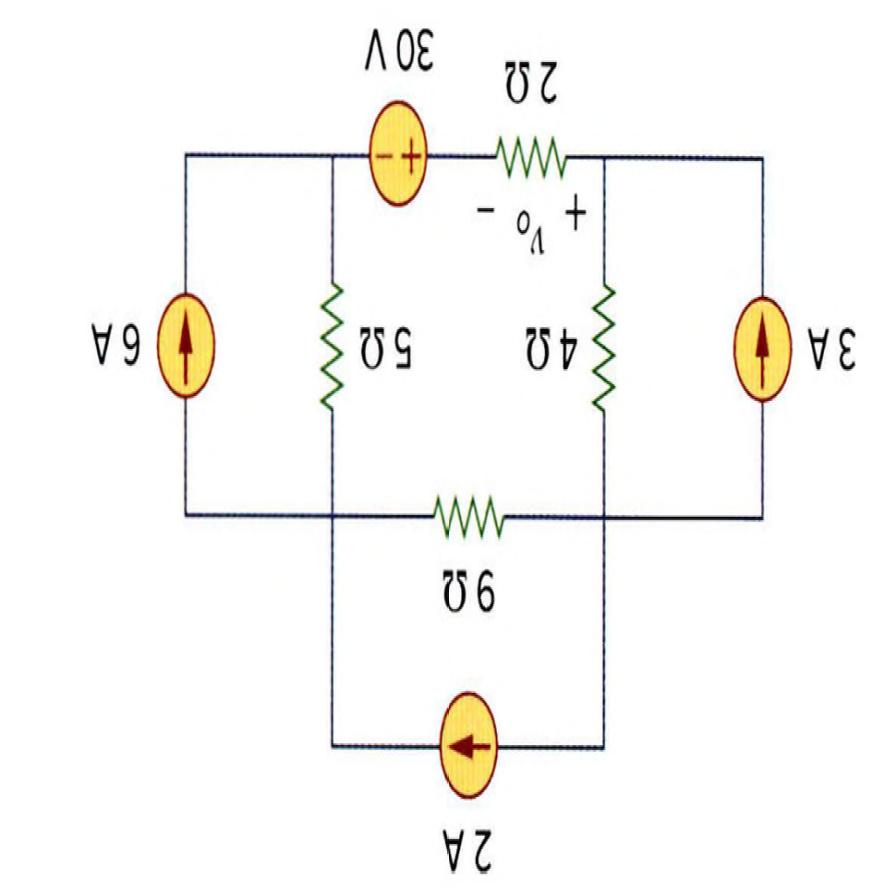I4: (439, 691, 498, 797)
V2: (368, 101, 428, 206)
